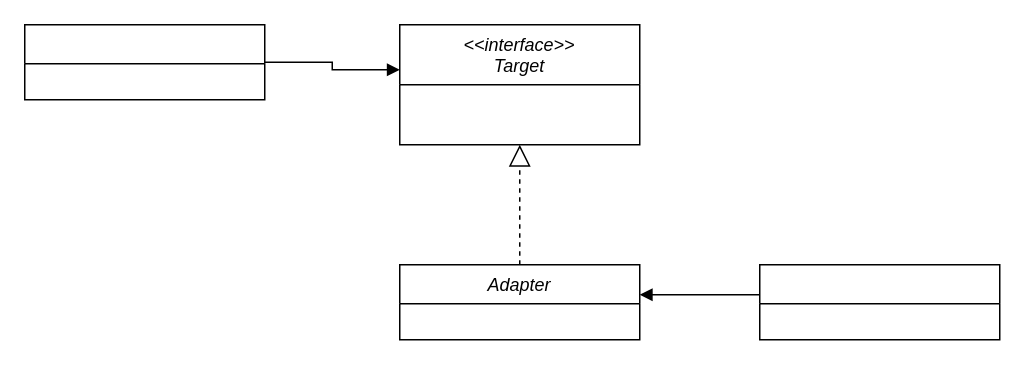
The diagram is 1025 pixels wide and 365 high, and some of its shapes have lost their labels. Here are the shapes that lost their labels. From the top down, the centre of each, then its label:
At (x=144, y=61): "Client".
At (x=879, y=301): "Adaptee".
